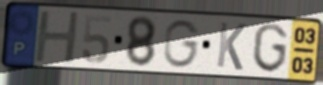5: (80, 13, 114, 65)
8: (123, 14, 159, 70)
G: (162, 18, 203, 70), (251, 22, 290, 75)
H: (33, 10, 82, 65)
K: (214, 20, 248, 73)
